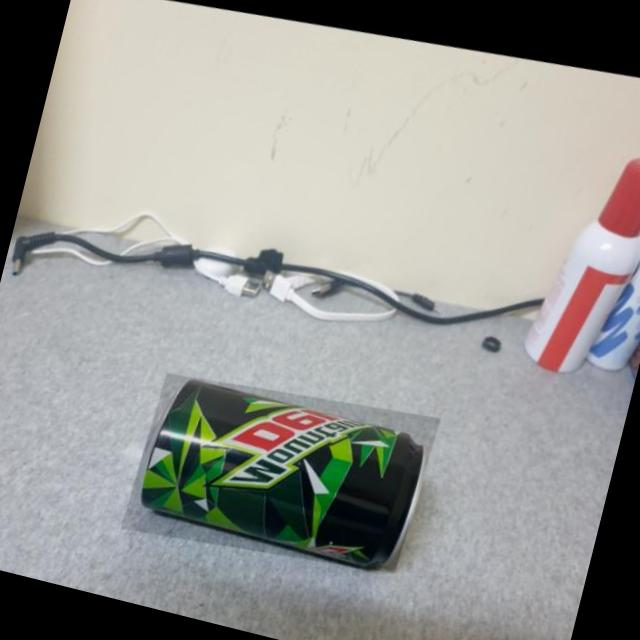trash: (119, 353, 445, 600)
